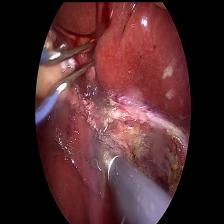Bipolar: (31, 29, 95, 124)
Grasper: (82, 129, 110, 177)
